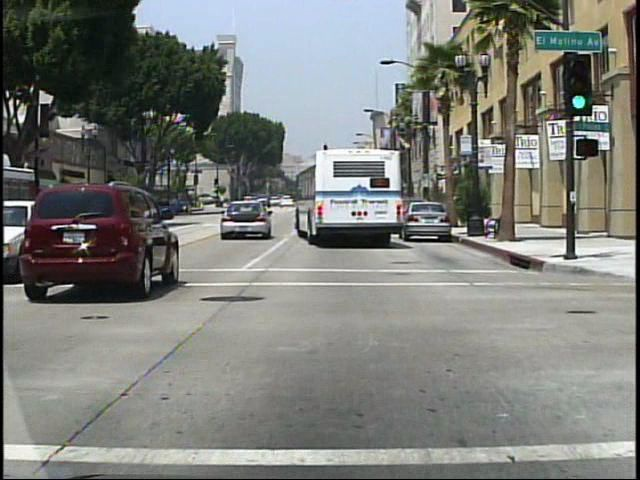person: (452, 189, 466, 226)
